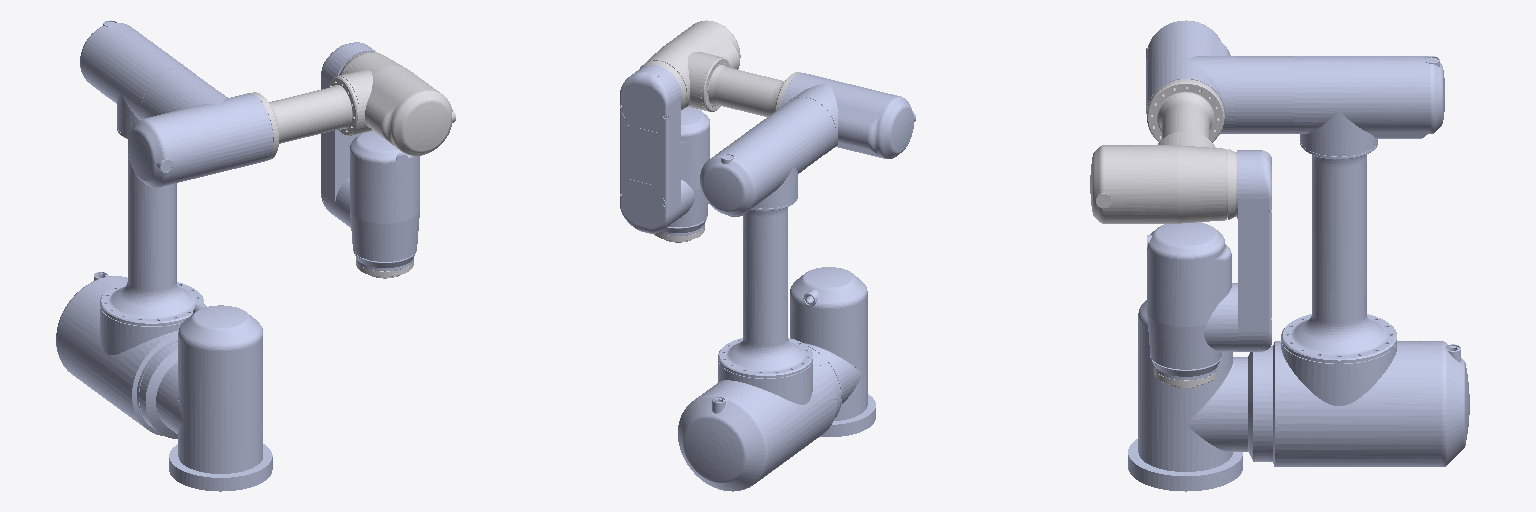
The robot description file, URDF, robot "awtube30808v1":
<?xml version="1.0" encoding="utf-8"?>
<!-- This URDF was automatically created by SolidWorks to URDF Exporter! Originally created by [author] ([email redacted]) 
     Commit Version: 1.5.1-0-g916b5db  Build Version: 1.5.7152.31018
     For more information, please see http://wiki.ros.org/sw_urdf_exporter -->
<robot
  name="awtube30808v1">
  <link
    name="awtube3_baselink">
    <inertial>
      <origin
        xyz="0 0 0.01225"
        rpy="0 0 0" />
      <mass
        value="1.4" />
      <inertia
        ixx="0.0027198"
        ixy="0"
        ixz="0"
        iyy="0.0027182"
        iyz="-6E-08"
        izz="0.0052775" />
    </inertial>
    <visual>
      <origin
        xyz="0 0 0"
        rpy="0 0 0" />
      <geometry>
        <mesh
          filename="package://awtube30808v1/meshes/awtube3_baselink.STL" />
      </geometry>
      <material
        name="">
        <color
          rgba="0.79216 0.81961 0.93333 1" />
      </material>
    </visual>
    <collision>
      <origin
        xyz="0 0 0"
        rpy="0 0 0" />
      <geometry>
        <mesh
          filename="package://awtube30808v1/meshes/controllo/awtube3_baselink.STL" />
      </geometry>
    </collision>
  </link>
  <link
    name="awtube3_link1">
    <inertial>
      <origin
        xyz="-0.00022 0.00588 0.08483"
        rpy="0 0 0" />
      <mass
        value="8.01" />
      <inertia
        ixx="0.033415"
        ixy="-5.883E-05"
        ixz="-8.959E-05"
        iyy="0.03218"
        iyz="-0.00037828"
        izz="0.019497" />
    </inertial>
    <visual>
      <origin
        xyz="0 0 0"
        rpy="0 0 0" />
      <geometry>
        <mesh
          filename="package://awtube30808v1/meshes/awtube3_link1.STL" />
      </geometry>
      <material
        name="">
        <color
          rgba="0.79216 0.81961 0.93333 1" />
      </material>
    </visual>
    <collision>
      <origin
        xyz="0 0 0"
        rpy="0 0 0" />
      <geometry>
        <mesh
          filename="package://awtube30808v1/meshes/controllo/awtube3_link1.STL" />
      </geometry>
    </collision>
  </link>
  <joint
    name="awtube3_joint1"
    type="revolute">
    <origin
      xyz="0 0 0.0245"
      rpy="0 0 0" />
    <parent
      link="awtube3_baselink" />
    <child
      link="awtube3_link1" />
    <axis
      xyz="0 0 -1" />
    <limit
      lower="-3.14"
      upper="3.14"
      effort="150"
      velocity="2.71" />
    <dynamics
      damping="1"
      friction="0.1" />
  </joint>
  <link
    name="awtube3_link2">
    <inertial>
      <origin
        xyz="4E-05 -0.1088 0.11565"
        rpy="0 0 0" />
      <mass
        value="20.94" />
      <inertia
        ixx="0.903867"
        ixy="-0.00021119"
        ixz="3.197E-05"
        iyy="0.11612141"
        iyz="-0.03589009"
        izz="0.85911964" />
    </inertial>
    <visual>
      <origin
        xyz="0 0 0"
        rpy="0 0 0" />
      <geometry>
        <mesh
          filename="package://awtube30808v1/meshes/awtube3_link2.STL" />
      </geometry>
      <material
        name="">
        <color
          rgba="0.79216 0.81961 0.93333 1" />
      </material>
    </visual>
    <collision>
      <origin
        xyz="0 0 0"
        rpy="0 0 0" />
      <geometry>
        <mesh
          filename="package://awtube30808v1/meshes/controllo/awtube3_link2.STL" />
      </geometry>
    </collision>
  </link>
  <joint
    name="awtube3_joint2"
    type="revolute">
    <origin
      xyz="0 0.0915 0.077"
      rpy="-1.5708 0 0" />
    <parent
      link="awtube3_link1" />
    <child
      link="awtube3_link2" />
    <axis
      xyz="0 0 -1" />
    <limit
      lower="-3.14"
      upper="3.14"
      effort="360"
      velocity="1.2436" />
    <dynamics
      damping="1"
      friction="0.1" />
  </joint>
  <link
    name="awtube3_link3">
    <inertial>
      <origin
        xyz="-0.00295 0.0001 0.12496"
        rpy="0 0 0" />
      <mass
        value="5.81" />
      <inertia
        ixx="0.02580946"
        ixy="-3.796E-05"
        ixz="-0.00054787"
        iyy="0.03096019"
        iyz="3.29E-05"
        izz="0.01531032" />
    </inertial>
    <visual>
      <origin
        xyz="0 0 0"
        rpy="0 0 0" />
      <geometry>
        <mesh
          filename="package://awtube30808v1/meshes/awtube3_link3.STL" />
      </geometry>
      <material
        name="">
        <color
          rgba="0.79216 0.81961 0.93333 1" />
      </material>
    </visual>
    <collision>
      <origin
        xyz="0 0 0"
        rpy="0 0 0" />
      <geometry>
        <mesh
          filename="package://awtube30808v1/meshes/controllo/awtube3_link3.STL" />
      </geometry>
    </collision>
  </link>
  <joint
    name="awtube3_joint3"
    type="revolute">
    <origin
      xyz="0 -0.5 0.0675"
      rpy="3.1416 0 0" />
    <parent
      link="awtube3_link2" />
    <child
      link="awtube3_link3" />
    <axis
      xyz="0 0 -1" />
    <limit
      lower="-4.71"
      upper="1.57"
      effort="80"
      velocity="3.61" />
    <dynamics
      damping="1"
      friction="0.1" />
  </joint>
  <link
    name="awtube3_link4">
    <inertial>
      <origin
        xyz="-0.00253 0.00011 0.217"
        rpy="0 0 0" />
      <mass
        value="4.41" />
      <inertia
        ixx="0.023597"
        ixy="-3.827E-05"
        ixz="0.00038829"
        iyy="0.029219"
        iyz="9.23E-06"
        izz="0.012417" />
    </inertial>
    <visual>
      <origin
        xyz="0 0 0"
        rpy="0 0 0" />
      <geometry>
        <mesh
          filename="package://awtube30808v1/meshes/awtube3_link4.STL" />
      </geometry>
      <material
        name="">
        <color
          rgba="0.86667 0.86667 0.8902 1" />
      </material>
    </visual>
    <collision>
      <origin
        xyz="0 0 0"
        rpy="0 0 0" />
      <geometry>
        <mesh
          filename="package://awtube30808v1/meshes/controllo/awtube3_link4.STL" />
      </geometry>
    </collision>
  </link>
  <joint
    name="awtube3_joint4"
    type="revolute">
    <origin
      xyz="0.066 0 0.159"
      rpy="0 1.5708 0" />
    <parent
      link="awtube3_link3" />
    <child
      link="awtube3_link4" />
    <axis
      xyz="0 0 -1" />
    <limit
      lower="-3.14"
      upper="3.14"
      effort="80"
      velocity="3.61" />
    <dynamics
      damping="1"
      friction="0.1" />
  </joint>
  <link
    name="awtube3_link5">
    <inertial>
      <origin
        xyz="-0.13 -0.19534 -0.0539"
        rpy="0 0 0" />
      <mass
        value="3.89" />
      <inertia
        ixx="0.024795"
        ixy="-2.785E-05"
        ixz="5.84E-05"
        iyy="0.011586"
        iyz="0.0050316"
        izz="0.019992" />
    </inertial>
    <visual>
      <origin
        xyz="0 0 0"
        rpy="0 0 0" />
      <geometry>
        <mesh
          filename="package://awtube30808v1/meshes/awtube3_link5.STL" />
      </geometry>
      <material
        name="">
        <color
          rgba="0.79216 0.81961 0.93333 1" />
      </material>
    </visual>
    <collision>
      <origin
        xyz="0 0 0"
        rpy="0 0 0" />
      <geometry>
        <mesh
          filename="package://awtube30808v1/meshes/controllo/awtube3_link5.STL" />
      </geometry>
    </collision>
  </link>
  <joint
    name="awtube3_joint5"
    type="revolute">
    <origin
      xyz="0.0745 0 0.244"
      rpy="0 1.5708 0" />
    <parent
      link="awtube3_link4" />
    <child
      link="awtube3_link5" />
    <axis
      xyz="0 0 -1" />
    <limit
      lower="-1.6"
      upper="4.71"
      effort="47"
      velocity="4.5" />
    <dynamics
      damping="1"
      friction="0.1" />
  </joint>
  <link
    name="awtube3_link6">
    <inertial>
      <origin
        xyz="9E-05 8E-05 -0.01309"
        rpy="0 0 0" />
      <mass
        value="0.25" />
      <inertia
        ixx="0.00015133"
        ixy="-1.12E-06"
        ixz="-2.3E-07"
        iyy="0.00019631"
        iyz="-4E-07"
        izz="0.00028746" />
    </inertial>
    <visual>
      <origin
        xyz="0 0 0"
        rpy="0 0 0" />
      <geometry>
        <mesh
          filename="package://awtube30808v1/meshes/awtube3_link6.STL" />
      </geometry>
      <material
        name="">
        <color
          rgba="0.8902 0.8902 0.91373 1" />
      </material>
    </visual>
    <collision>
      <origin
        xyz="0 0 0"
        rpy="0 0 0" />
      <geometry>
        <mesh
          filename="package://awtube30808v1/meshes/controllo/awtube3_link6.STL" />
      </geometry>
    </collision>
  </link>
  <joint
    name="awtube3_joint6"
    type="revolute">
    <origin
      xyz="0 -0.315 -0.074"
      rpy="1.5708 0 0" />
    <parent
      link="awtube3_link5" />
    <child
      link="awtube3_link6" />
    <axis
      xyz="0 0 -1" />
    <limit
      lower="-3.14"
      upper="3.14"
      effort="37"
      velocity="6.36" />
    <dynamics
      damping="1"
      friction="0.1" />
  </joint>
</robot>

--- Facts derived from the render (not from the file) ---
The picture shows the robot from 3 angles, left to right: view 1: azimuth 30°, elevation 25°; view 2: azimuth 150°, elevation 25°; view 3: azimuth 270°, elevation 25°; orthographic projection.
Model awtube30808v1 with 7 links and 6 joints (6 revolute), rooted at awtube3_baselink, posed every joint at zero.
Links seen in each view (by area): view 1: awtube3_link2, awtube3_link1, awtube3_link3, awtube3_link5, awtube3_link4, awtube3_baselink; view 2: awtube3_link2, awtube3_link5, awtube3_link3, awtube3_link1, awtube3_link4, awtube3_baselink; view 3: awtube3_link2, awtube3_link5, awtube3_link4, awtube3_link1, awtube3_link3, awtube3_baselink.
Link boxes in pixels (<box>): awtube3_link2: <box>56,20,203,438</box>; awtube3_link1: <box>156,303,262,473</box>; awtube3_link3: <box>128,68,272,187</box>; awtube3_link5: <box>321,42,419,271</box>; awtube3_link4: <box>251,52,455,160</box>; awtube3_baselink: <box>169,444,272,491</box>; awtube3_link2: <box>678,115,841,491</box>; awtube3_link5: <box>620,65,709,235</box>; awtube3_link3: <box>770,73,915,166</box>; awtube3_link1: <box>790,267,867,420</box>; awtube3_link4: <box>640,20,800,116</box>; awtube3_baselink: <box>820,394,875,436</box>; awtube3_link2: <box>1248,56,1469,466</box>; awtube3_link5: <box>1147,150,1271,379</box>; awtube3_link4: <box>1090,79,1236,223</box>; awtube3_link1: <box>1138,300,1247,471</box>; awtube3_link3: <box>1146,20,1293,133</box>; awtube3_baselink: <box>1128,439,1242,491</box>.
Size in the robot's own frame: 0.523 by 0.5563 by 0.659 metres.
Meshes: 7 distinct files referenced, 7 mesh visuals loaded (7 binary STL).